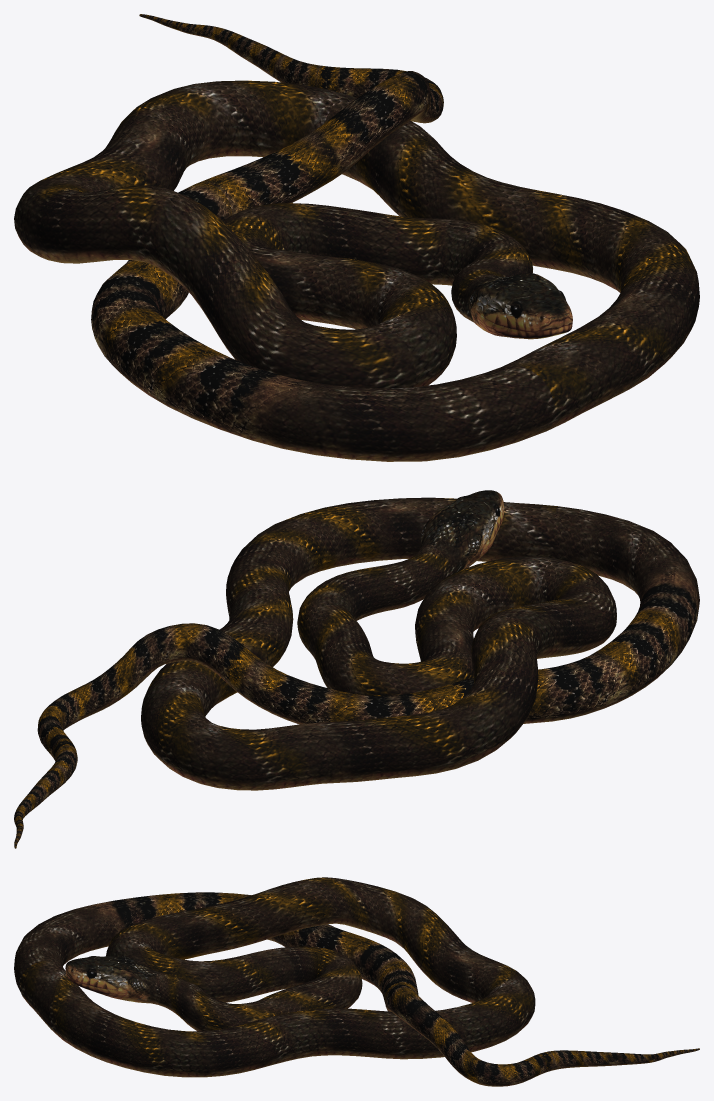
The model's file is BB_ZongHeiJinShe.FBX.
The picture shows the model from 3 angles, top to bottom: view 1: azimuth 30°, elevation 25°; view 2: azimuth 150°, elevation 25°; view 3: azimuth 270°, elevation 25°; orthographic projection. The views are drawn at different scales.
Parts seen in each view (by area): view 1: BB_ZongHeiJinShe; view 2: BB_ZongHeiJinShe; view 3: BB_ZongHeiJinShe.
Boxes of the visible parts, bbox=[...] form: BB_ZongHeiJinShe: bbox=[14, 14, 699, 461]; BB_ZongHeiJinShe: bbox=[14, 490, 699, 848]; BB_ZongHeiJinShe: bbox=[14, 877, 699, 1086].
Size of the model in its own units: 76.17 by 17.7 by 137.
